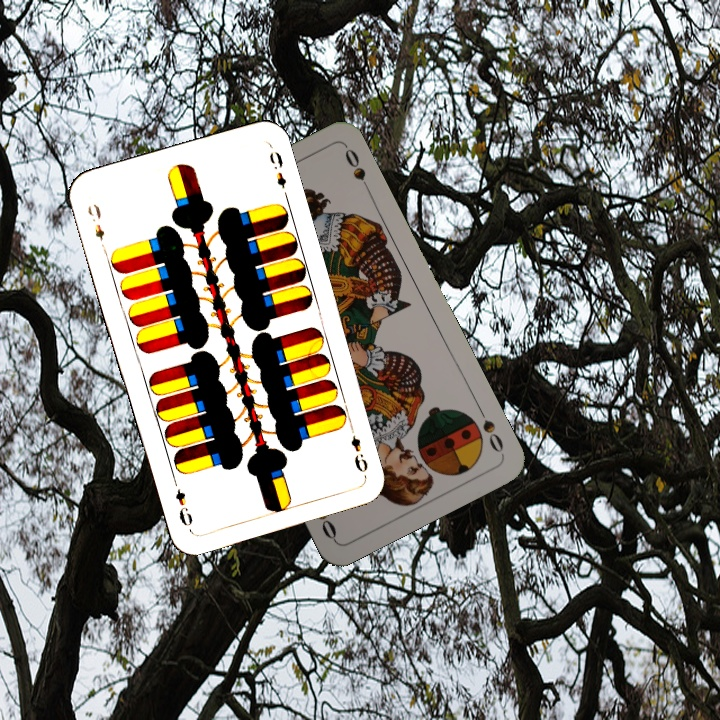E9: (346, 431, 371, 475), (83, 200, 107, 243)
SO: (473, 402, 506, 456)
